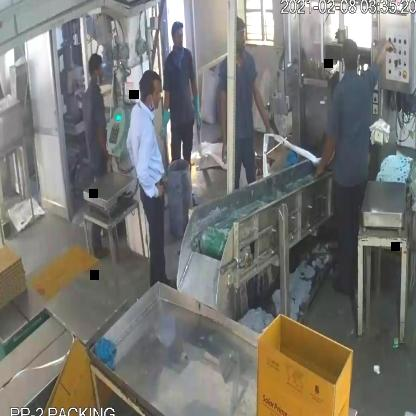glove: (188, 77, 206, 152), (157, 96, 175, 146)
no_glove: (243, 73, 278, 149), (308, 117, 336, 184), (371, 29, 400, 79), (216, 85, 230, 174), (140, 160, 166, 207), (91, 120, 111, 169)
